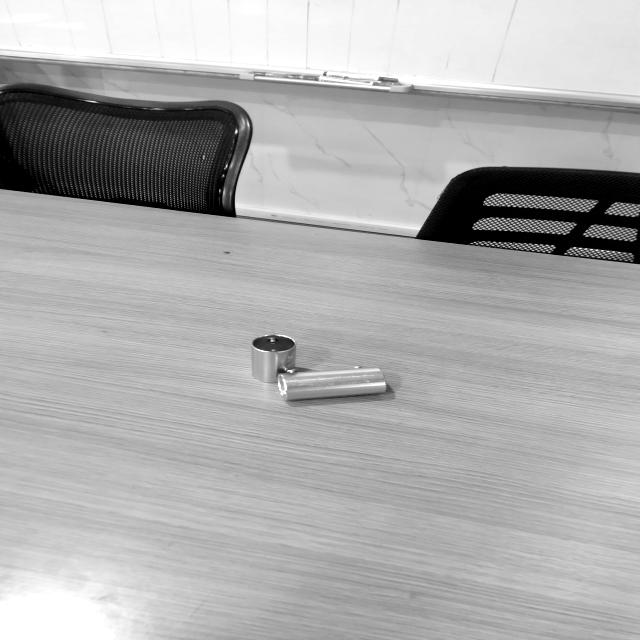Co_Lon: (277, 363, 387, 402)
Co_Nho: (251, 335, 296, 383)
